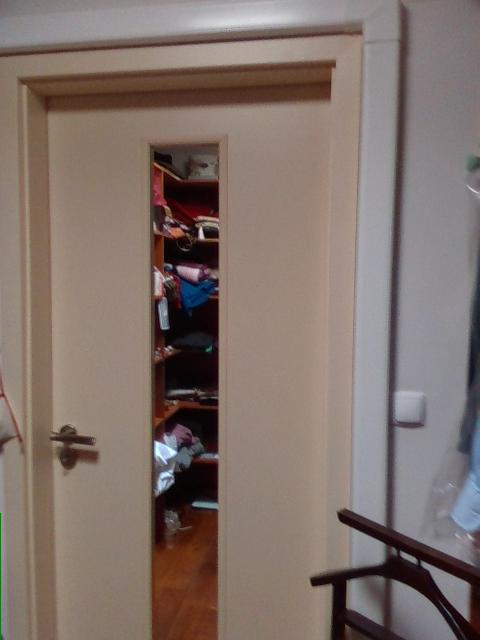door: (4, 27, 358, 639)
